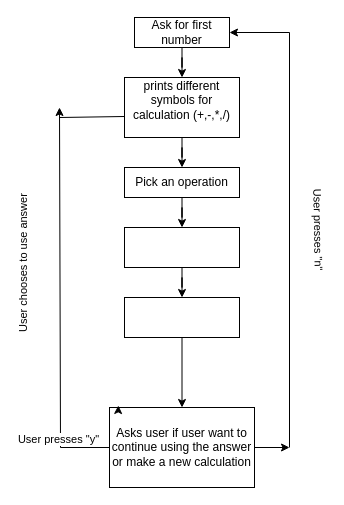
The diagram is 344 pixels wide and 505 high, and some of its shapes have lost their labels. The centre of each missing label's shape, as x and y in pixels:
"Asks user what is the next number" belongs at point 182,247.
"Prints the answer" belongs at point 182,317.
